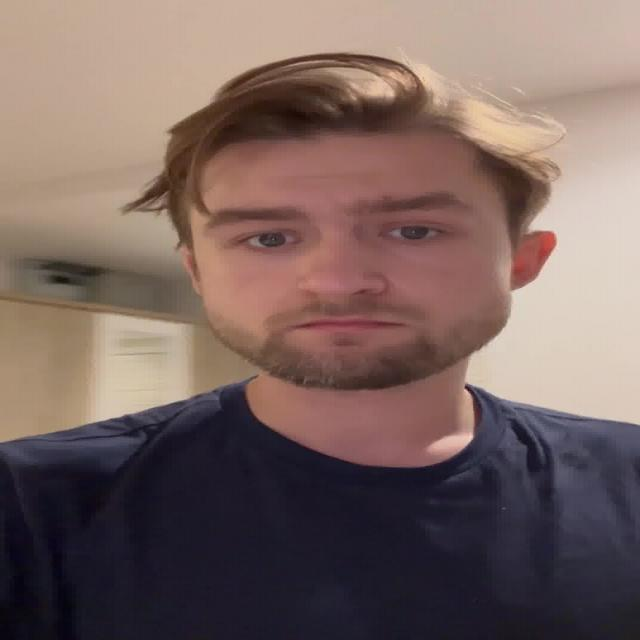earlobe: (508, 270, 538, 290)
eye: (383, 225, 446, 242), (237, 232, 301, 248)
nose: (302, 286, 388, 317)
wholeear: (508, 230, 558, 291), (178, 243, 201, 297)
